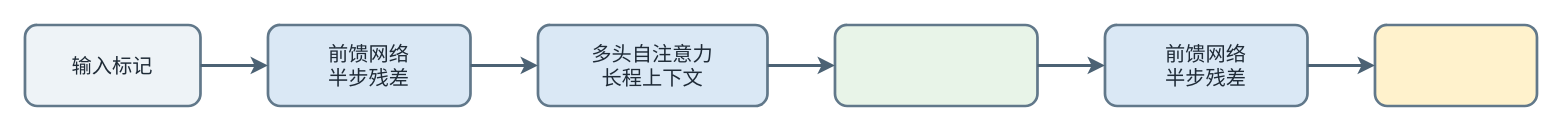
Image size: 1561x130. Some labels were removed from this diagram. Each missing label, with the centre of its shape:
"LayerNorm 输出" goes at point (1455, 65).
"卷积模块 局部动态" goes at point (935, 65).
